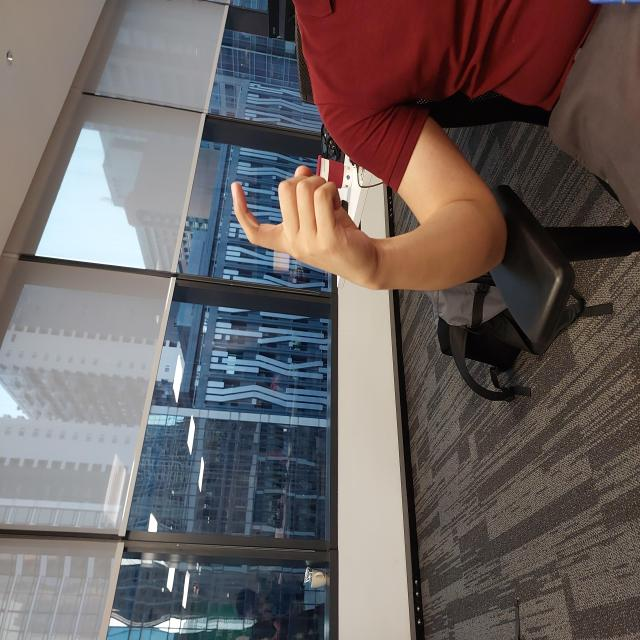X: (354, 229, 477, 378)
